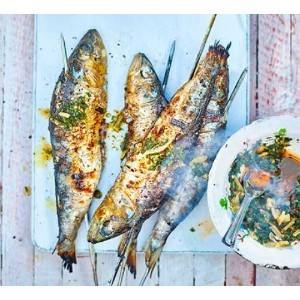sardine_brain food: (39, 72, 238, 259)
